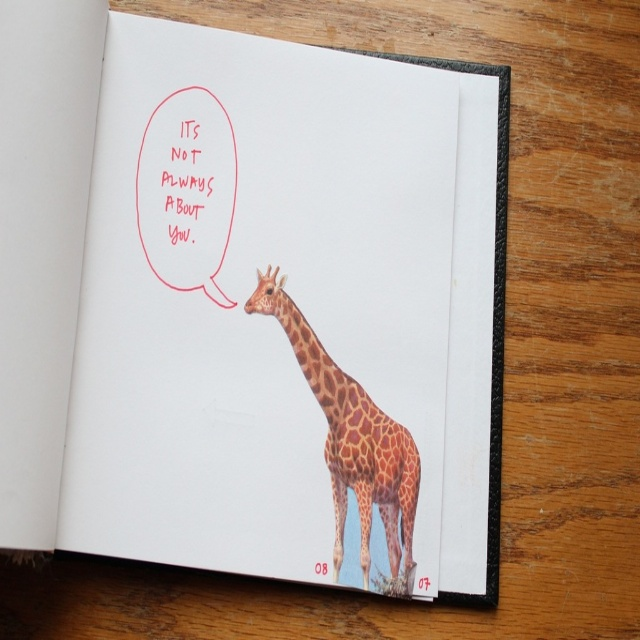Giraffe: (244, 266, 421, 600)
